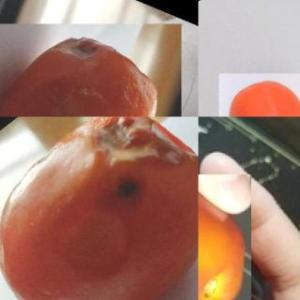tomato: (198, 174, 252, 300), (220, 74, 300, 118)
